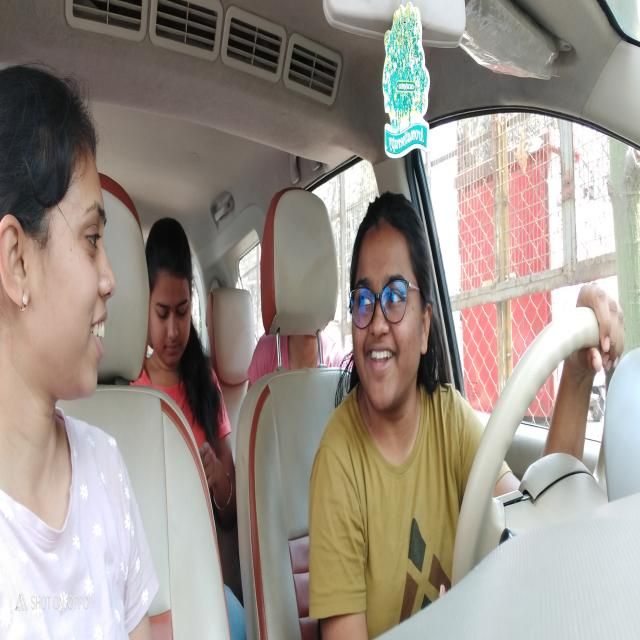LeftRight: (3, 86, 118, 410)
person: (150, 227, 195, 357)
talking: (351, 206, 431, 404), (90, 309, 109, 354), (369, 346, 397, 375)
